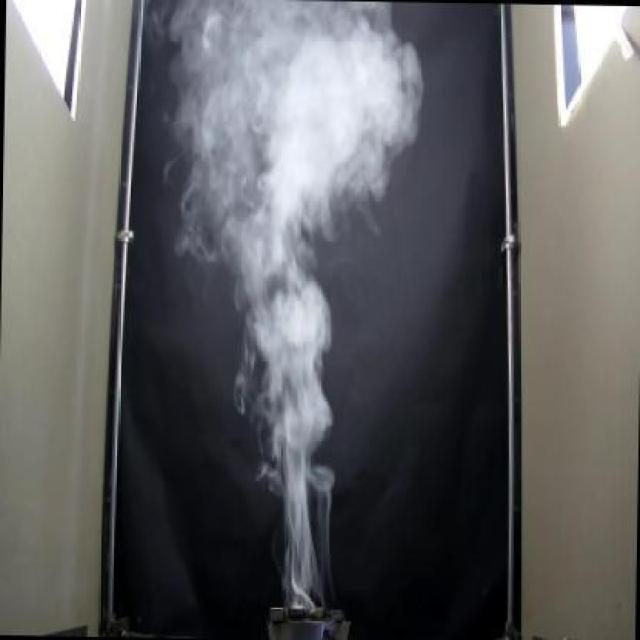smoke: (157, 0, 420, 585)
